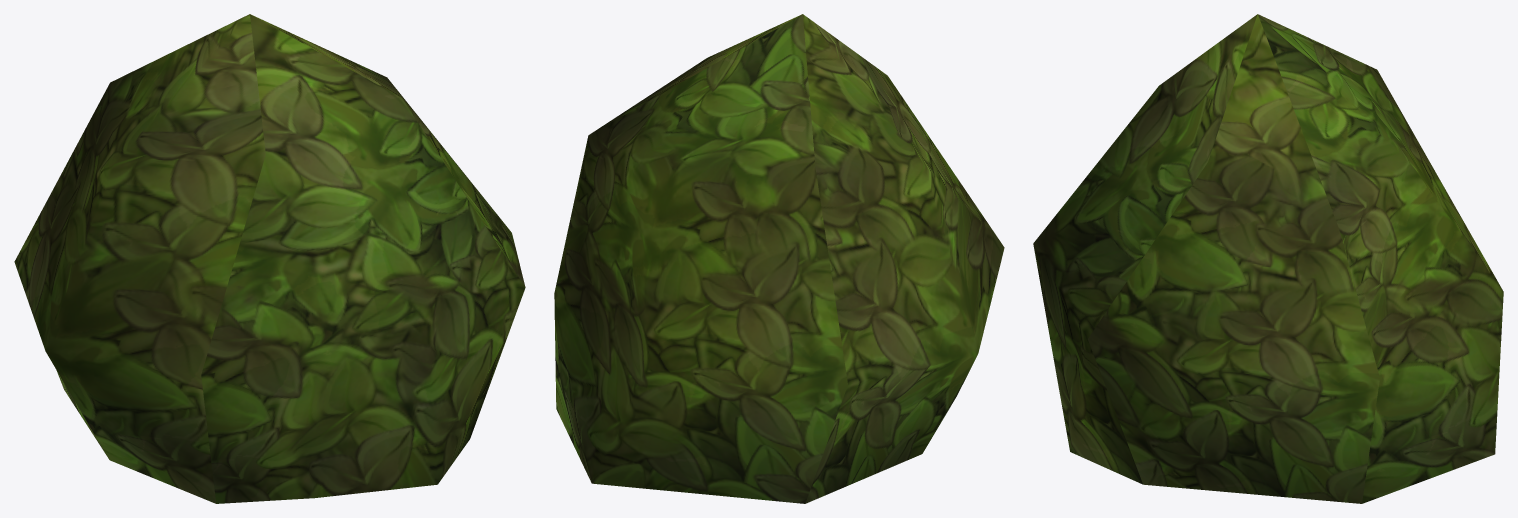
Rendered from fanasty_mod_sml_round_bush.fbx.
3 renders of one model, left to right at view 1: azimuth 30°, elevation 25°; view 2: azimuth 150°, elevation 25°; view 3: azimuth 270°, elevation 25°, orthographic. The views are drawn at different scales.
Parts seen in each view (by area): view 1: sml_round_bush; view 2: sml_round_bush; view 3: sml_round_bush.
Part boxes in pixels (x1,y1,x2,y2): sml_round_bush: (14, 14, 525, 503); sml_round_bush: (554, 14, 1004, 503); sml_round_bush: (1033, 14, 1503, 503).
Size of the model in its own units: 1.56 by 1.46 by 1.57.
